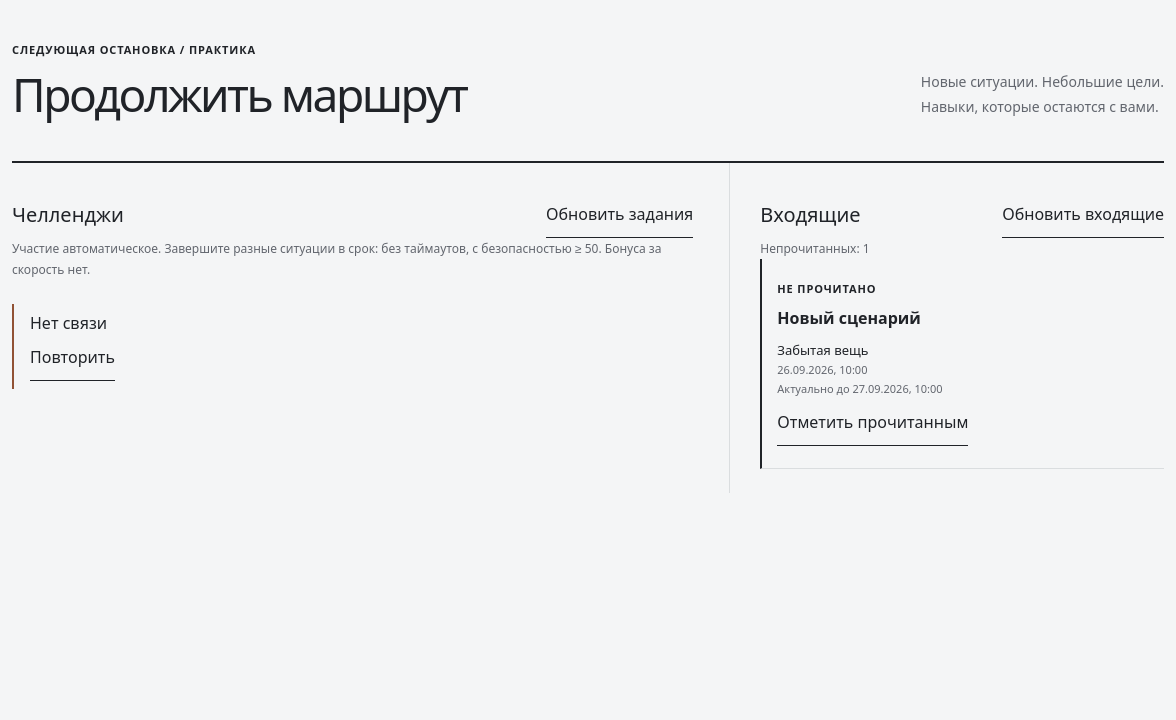
it: retention › recovers a failed page and renders completed/expired states
The image size is (1176, 720).
Click the button "Повторить" at (72,357), box x1=30 y1=334 x2=115 y2=381
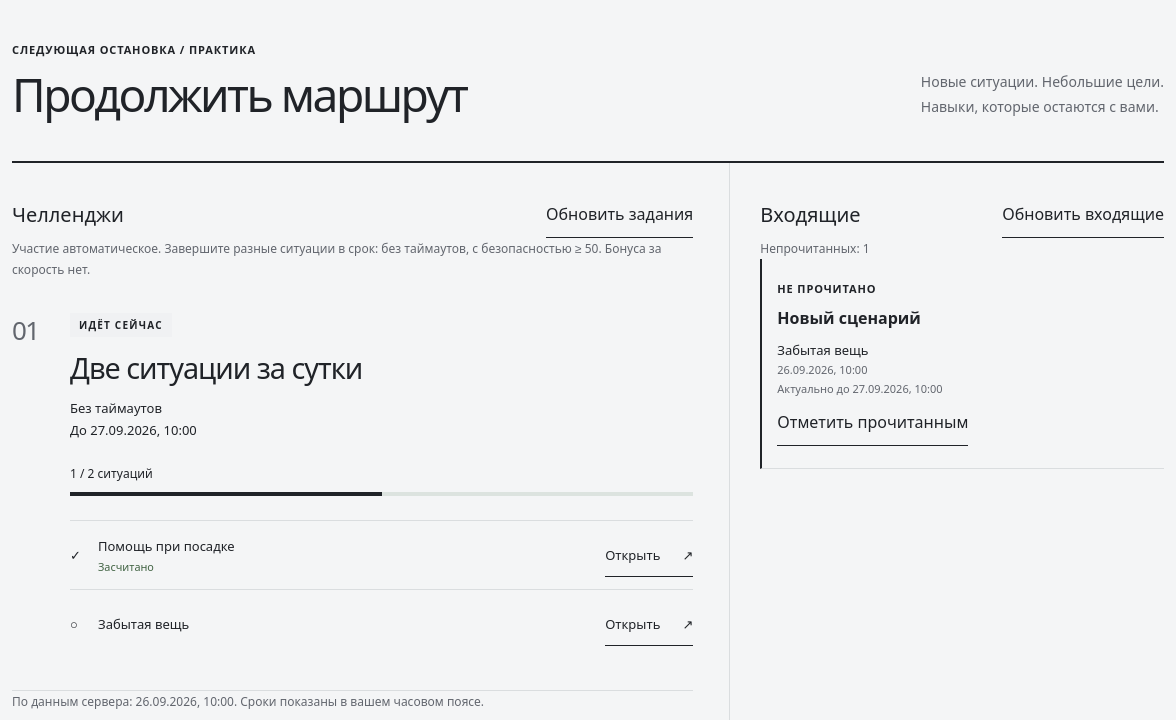
Now the heading "Две ситуации за сутки" is shown, box x1=70 y1=348 x2=362 y2=387
